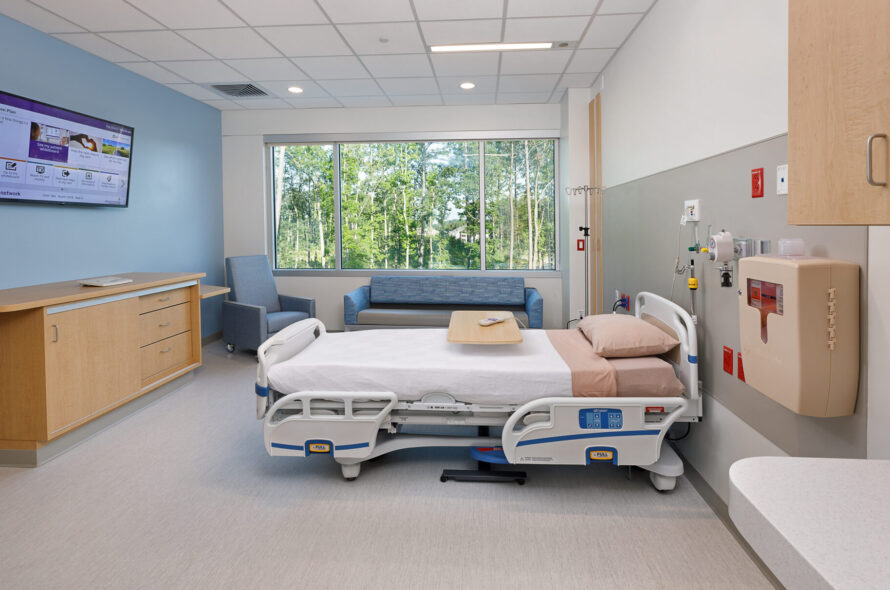TV: (1, 92, 136, 209)
bedrail: (502, 396, 687, 462), (264, 392, 398, 456)
chair: (215, 257, 318, 348)
counter: (1, 264, 204, 465)
countertop: (731, 454, 890, 590), (38, 271, 201, 309), (201, 283, 231, 303)
foot_board: (256, 316, 323, 410)
handle: (862, 133, 890, 193), (50, 324, 62, 344), (157, 322, 171, 329), (158, 296, 170, 303), (160, 347, 172, 354)
hospital_bed: (256, 292, 702, 499)
iv_pole: (564, 185, 601, 312)
medical_waste_container: (732, 245, 861, 415)
overbed_table: (448, 312, 521, 342)
sofa: (342, 279, 539, 329)
